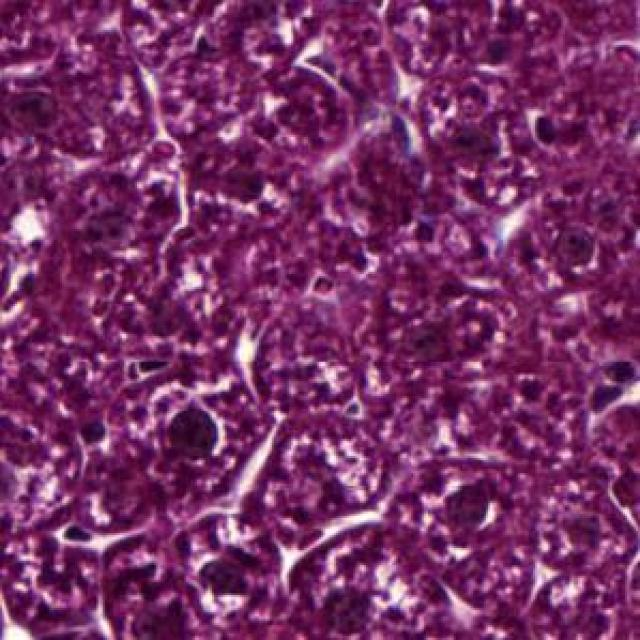inflammation: (152, 387, 235, 471), (424, 464, 507, 544), (184, 548, 259, 616)
